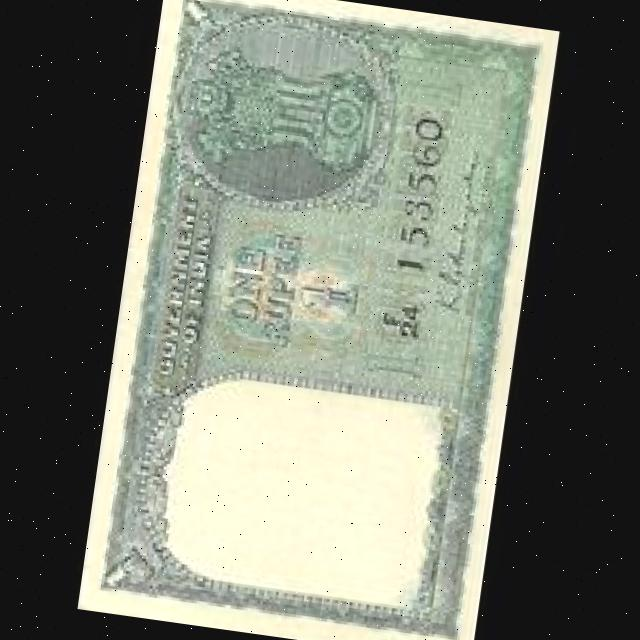banknote: (74, 0, 556, 640)
